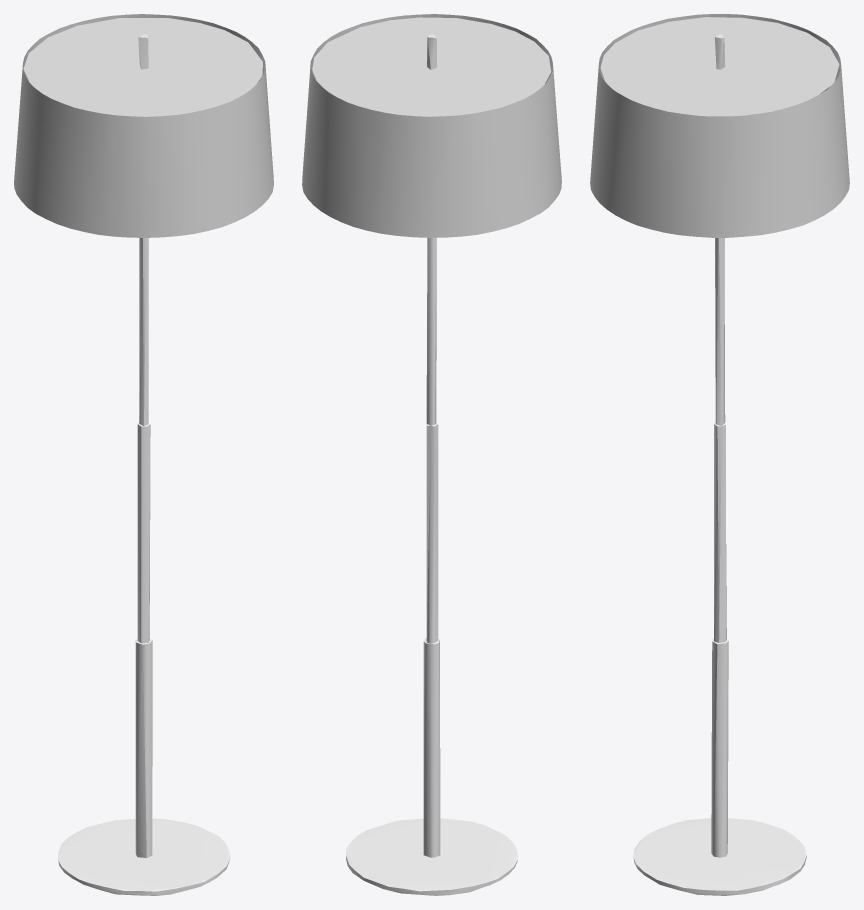
Rendered from Light0005.obj.
3 renders of one model, left to right at view 1: azimuth 30°, elevation 25°; view 2: azimuth 150°, elevation 25°; view 3: azimuth 270°, elevation 25°, orthographic.
Size of the model in its own units: 0.3 by 1.05 by 0.3.
1 material, 1 textured.
